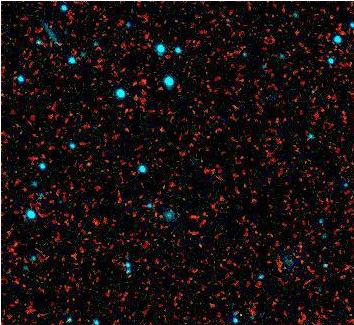star: (74, 150, 104, 180)
